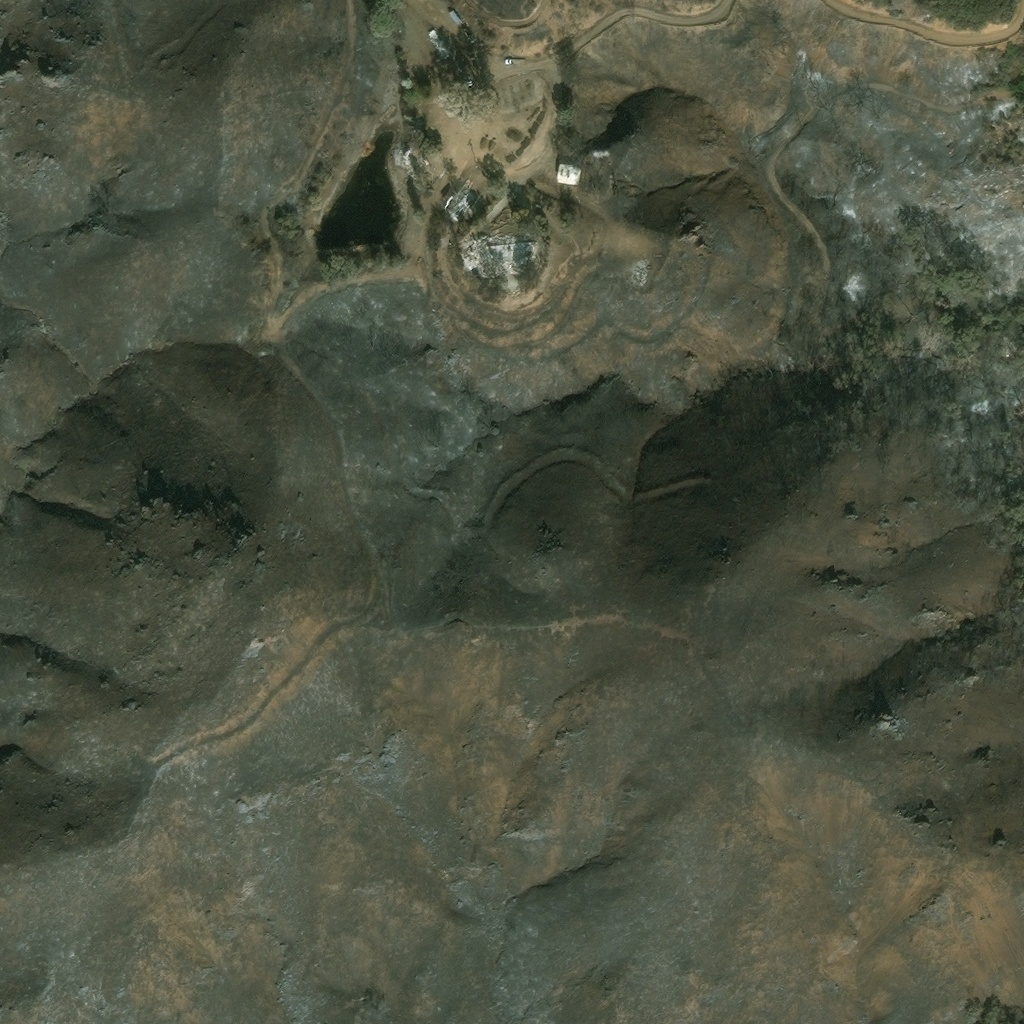0 no-damage: (448, 8, 462, 23)
1 minor-damage: (557, 165, 577, 183)
2 major-damage: (427, 24, 453, 58)
3 destroyed: (467, 231, 536, 268), (443, 184, 475, 219), (632, 264, 646, 276), (414, 116, 426, 130), (630, 273, 645, 284), (638, 258, 648, 267)
